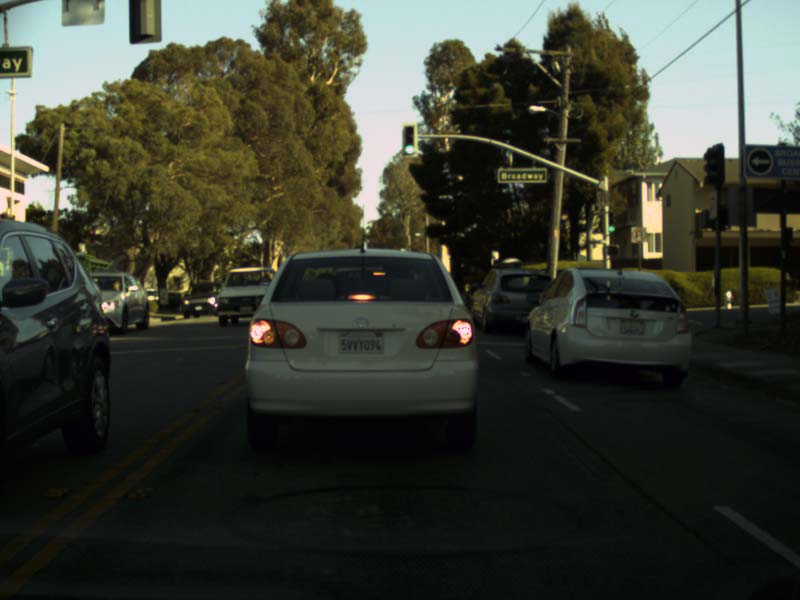Green: (402, 125, 417, 154), (606, 212, 615, 232)
